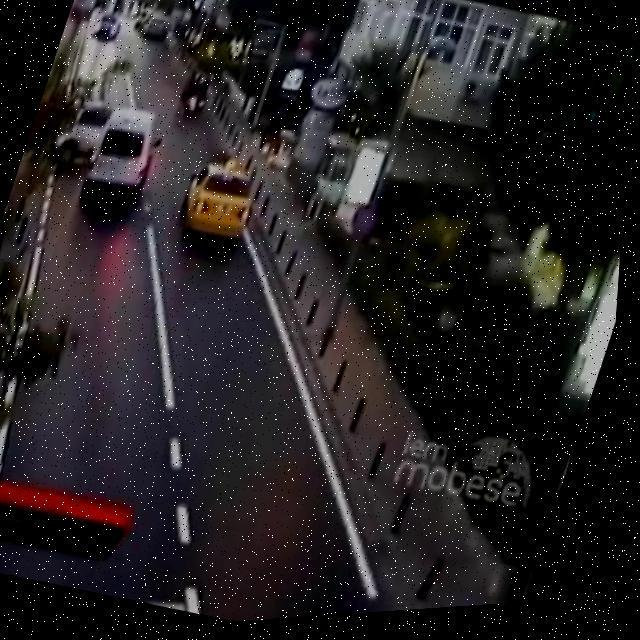Car Accident Detector - v4 Generation1 Exported: (27, 80, 191, 242)
